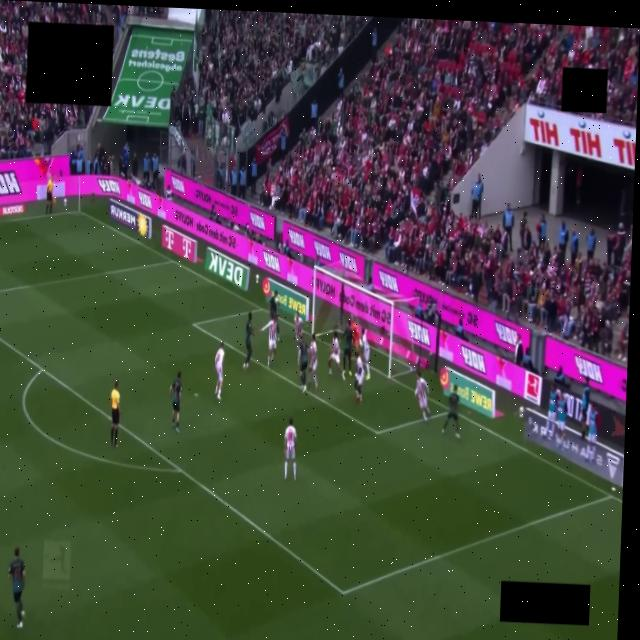player: (8, 547, 25, 628), (441, 385, 459, 438), (328, 331, 344, 379), (415, 371, 429, 421), (261, 320, 276, 366), (170, 371, 181, 432), (284, 419, 295, 480), (243, 313, 253, 370), (214, 342, 224, 399), (308, 334, 317, 390), (354, 354, 364, 404), (342, 320, 351, 375), (293, 312, 302, 365), (299, 341, 308, 392), (360, 329, 369, 380), (269, 291, 278, 340), (350, 320, 359, 355)
referee: (110, 382, 119, 448)
